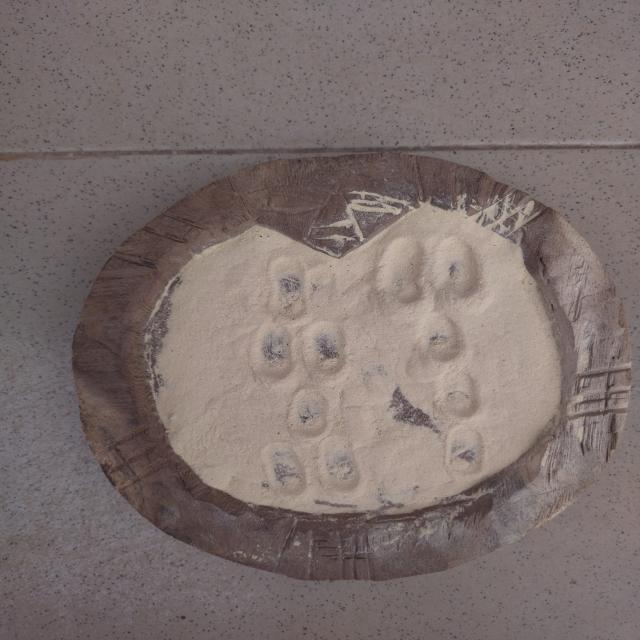double: (375, 230, 483, 306), (250, 438, 368, 498), (243, 320, 355, 381)
single: (260, 252, 318, 327), (437, 423, 492, 477), (284, 384, 334, 441), (431, 369, 482, 422), (416, 310, 464, 366)
